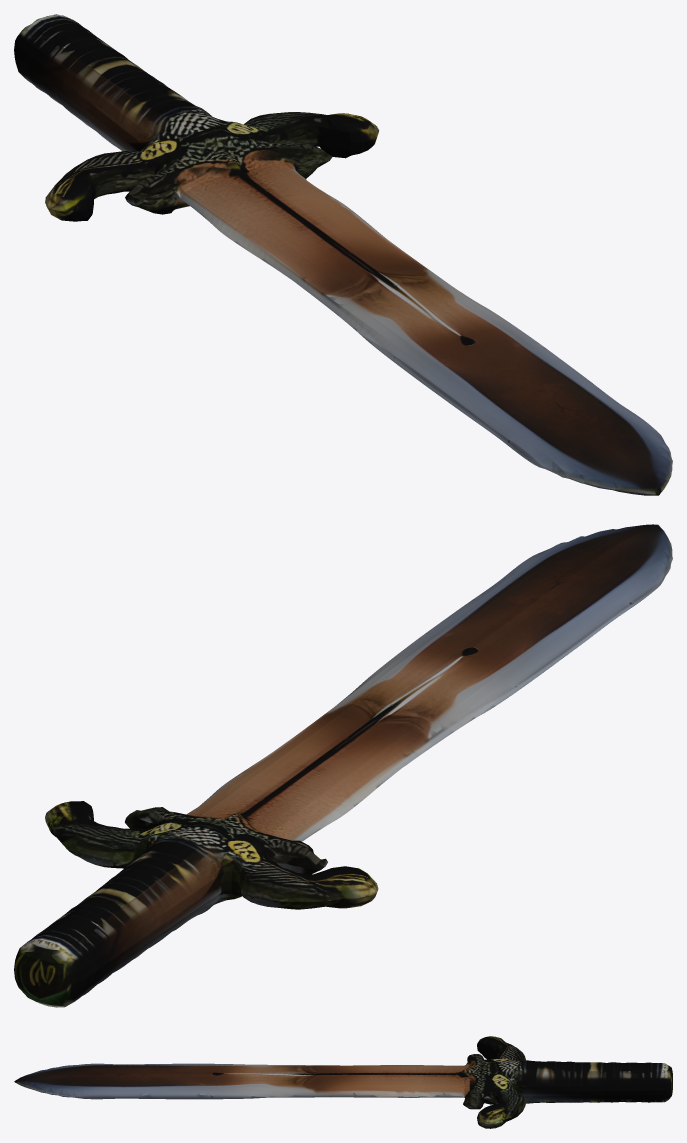
File: prop.glb
3 renders of one model, top to bottom at view 1: azimuth 30°, elevation 25°; view 2: azimuth 150°, elevation 25°; view 3: azimuth 270°, elevation 25°, orthographic. The views are drawn at different scales.
Visible parts, largest first — view 1: geometry_0; view 2: geometry_0; view 3: geometry_0.
Boxes of the visible parts, x1,y1,x2,y2 form: geometry_0: (14,14,672,495); geometry_0: (14,524,672,1007); geometry_0: (14,1036,672,1128).
Bounding box in the file's own units: 0.6009 × 0.1285 × 1.95.
Materials: 1 (1 with a texture image).
